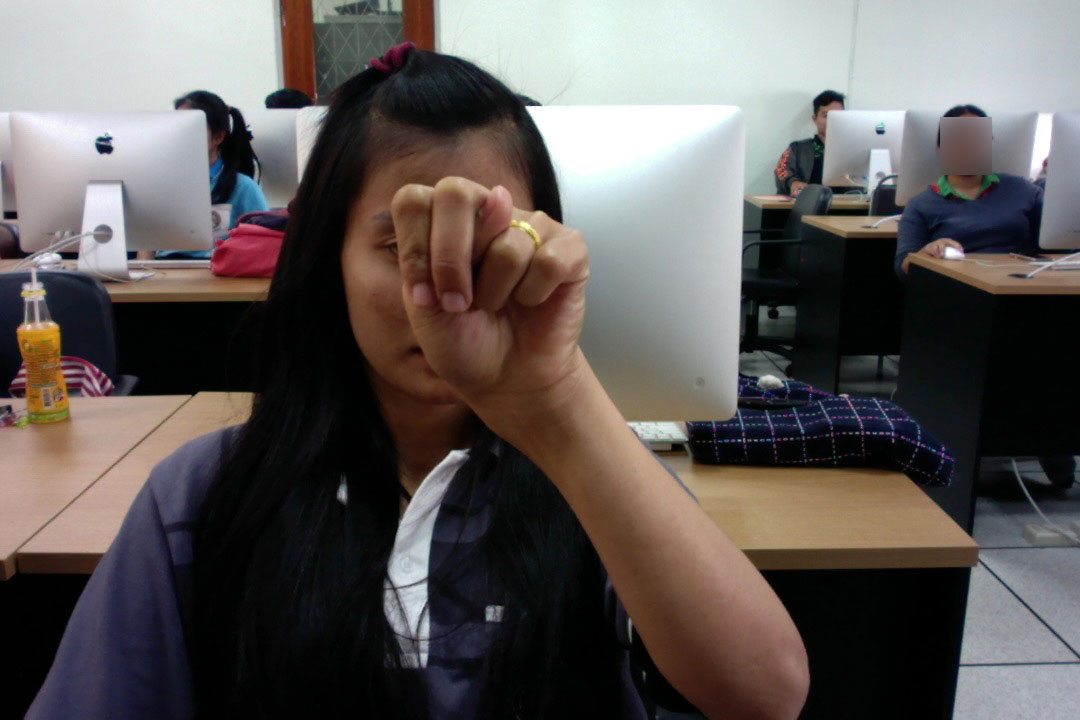nor: (384, 169, 598, 424)
